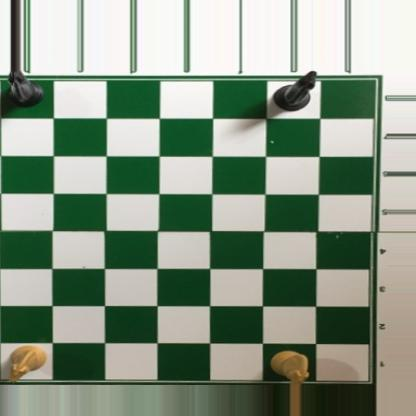black-knight: (271, 71, 320, 112), (6, 71, 44, 110)
white-knight: (5, 343, 48, 383), (271, 350, 309, 386)
